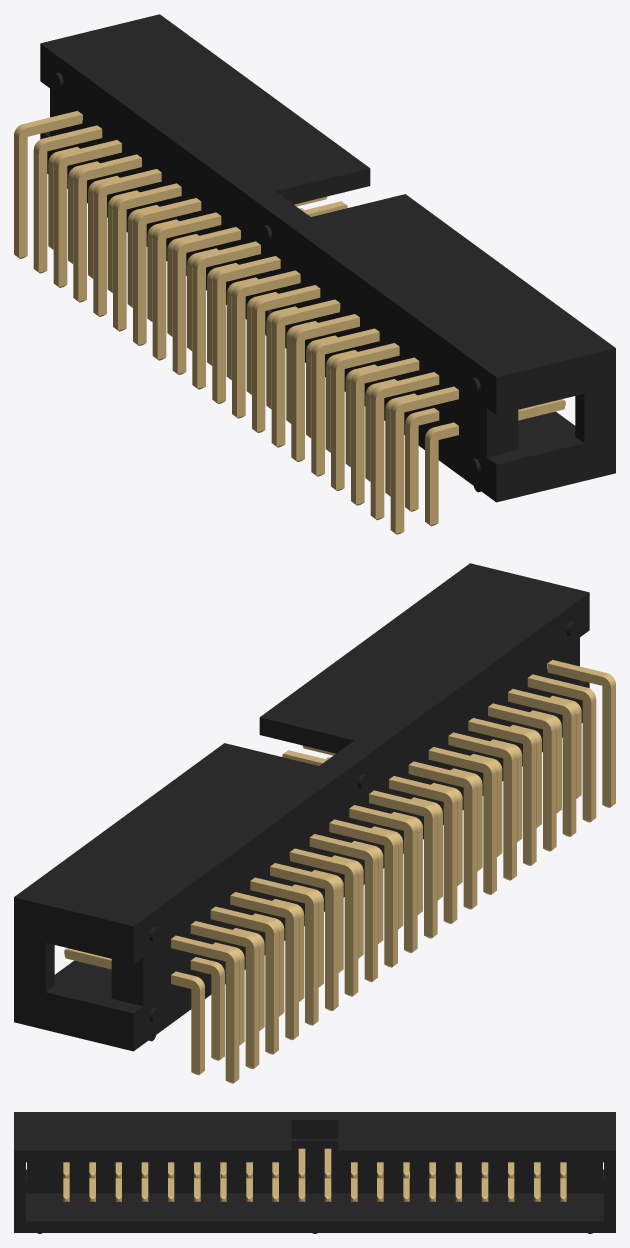
File: kc-idc-header_2x20_p2.54mm_horizontal.glb
3 views of the same model, one above another, from view 1: azimuth 30°, elevation 25°; view 2: azimuth 150°, elevation 25°; view 3: azimuth 270°, elevation 25° (orthographic). The views are drawn at different scales.
Visible parts, largest first — view 1: 0_0_0_0, 0.75_0.5_0.25_0.9; view 2: 0_0_0_0, 0.75_0.5_0.25_0.9; view 3: 0_0_0_0, 0.75_0.5_0.25_0.9.
Part boxes in pixels (left/top/right/bottom): 0_0_0_0: left=40, top=14, right=615, bottom=502; 0.75_0.5_0.25_0.9: left=14, top=111, right=565, bottom=534; 0_0_0_0: left=14, top=563, right=589, bottom=1051; 0.75_0.5_0.25_0.9: left=64, top=660, right=615, bottom=1083; 0_0_0_0: left=14, top=1112, right=615, bottom=1233; 0.75_0.5_0.25_0.9: left=63, top=1148, right=566, bottom=1201.
Bounding box in the file's own units: 1.35 × 1.21 × 5.85.
